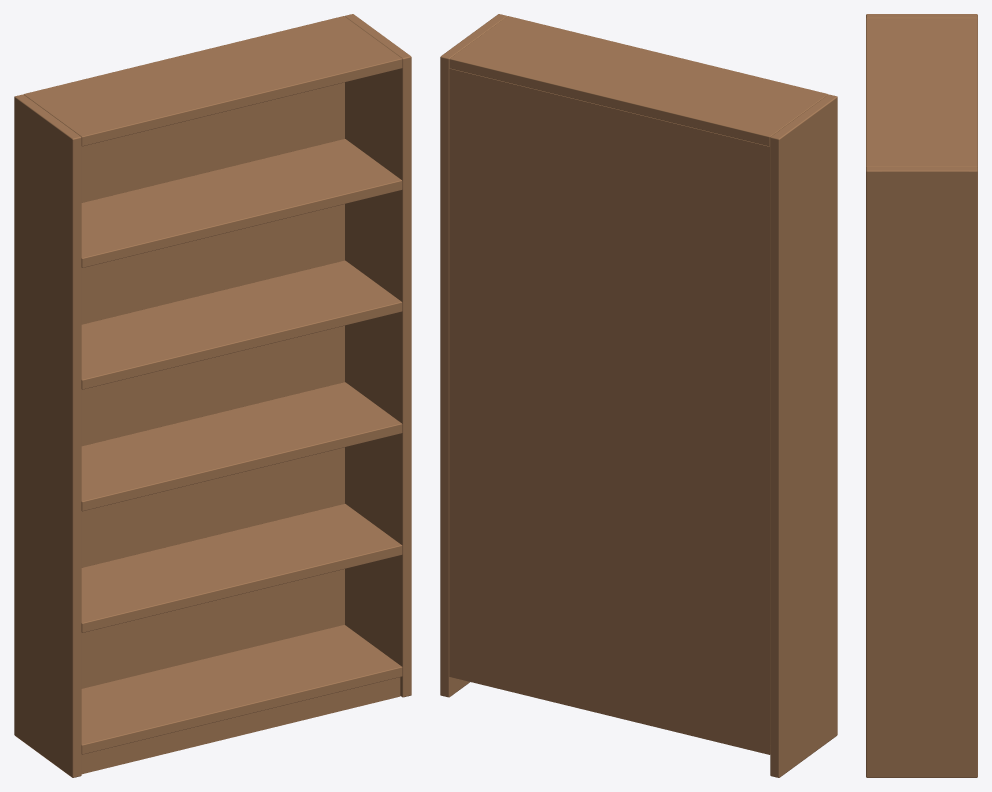
The model's file is bookshelf__w100.glb.
The picture shows the model from 3 angles, left to right: view 1: azimuth 30°, elevation 25°; view 2: azimuth 150°, elevation 25°; view 3: azimuth 270°, elevation 25°; orthographic projection. The views are drawn at different scales.
Parts seen in each view (by area): view 1: bookshelf__w100; view 2: bookshelf__w100; view 3: bookshelf__w100.
Part boxes in pixels (box(x1,y1,x2,y2)): bookshelf__w100: box(14, 14, 411, 777); bookshelf__w100: box(440, 14, 837, 777); bookshelf__w100: box(866, 14, 977, 777).
Bounding box in the file's own units: 1 × 1.8 × 0.3.
